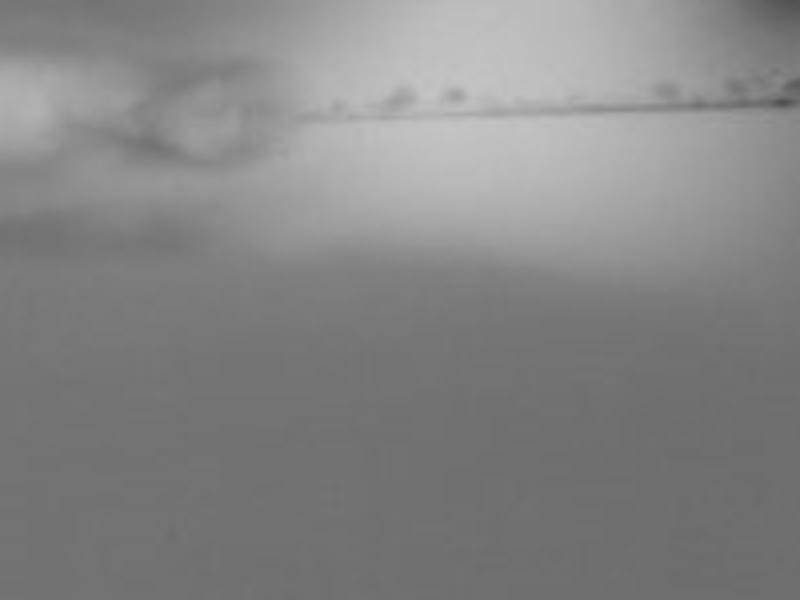defect: (382, 85, 416, 111), (650, 78, 680, 102), (438, 87, 467, 106), (725, 73, 746, 97), (752, 73, 772, 92), (783, 76, 800, 93), (328, 99, 345, 116)
